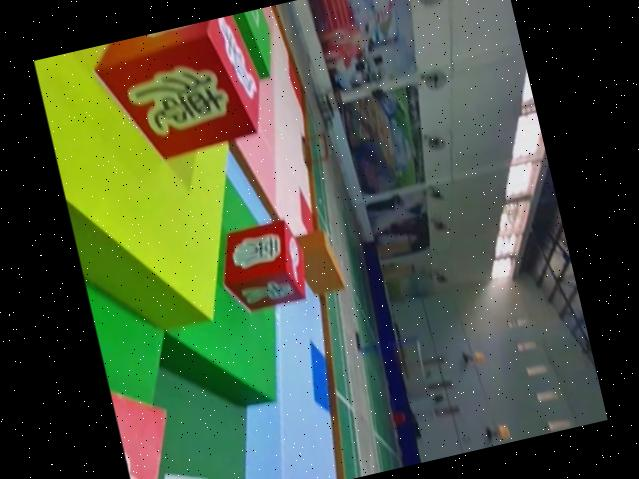R2 Fake: (88, 12, 270, 168), (213, 217, 314, 318)
